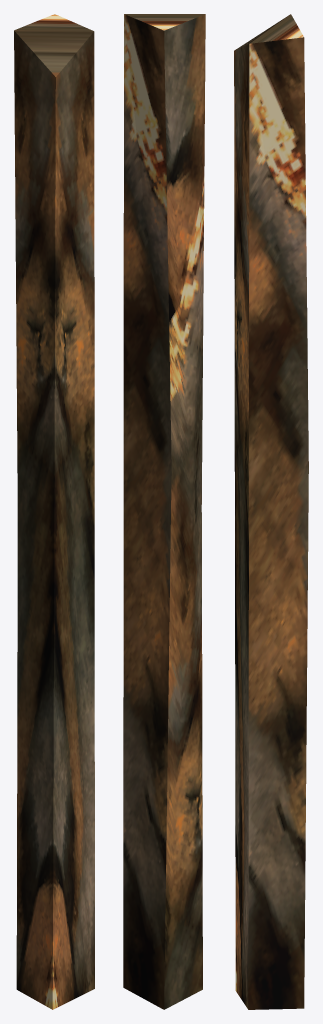
File: ColdZone_Log_S_3.gltf
3 renders of one model, left to right at view 1: azimuth 30°, elevation 25°; view 2: azimuth 210°, elevation 25°; view 3: azimuth 270°, elevation 25°, orthographic.
Parts seen in each view (by area): view 1: ColdZone_Log_S_3; view 2: ColdZone_Log_S_3; view 3: ColdZone_Log_S_3.
Boxes of the visible parts, x1,y1,x2,y2 form: ColdZone_Log_S_3: (14, 14, 94, 1009); ColdZone_Log_S_3: (123, 14, 205, 1009); ColdZone_Log_S_3: (234, 14, 308, 1009).
Bounding box in the file's own units: 0.828 × 12.71 × 0.8869.
1 material, 1 textured.
